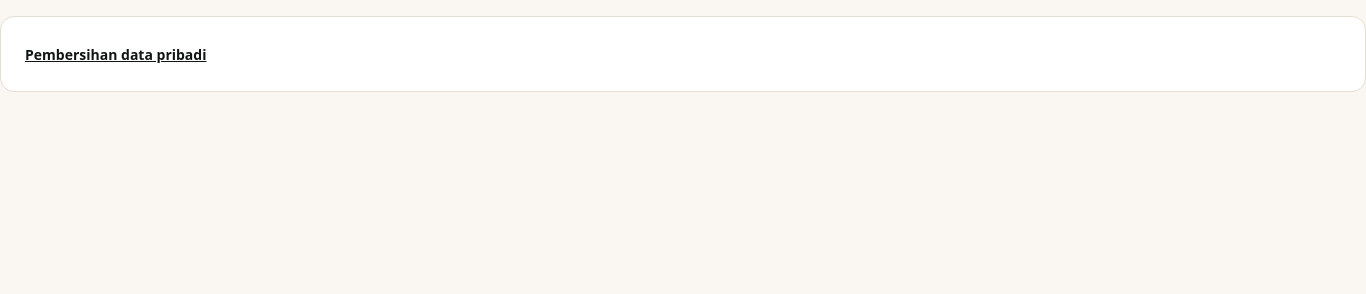
Test case: operator privacy cleanup › localizes safe metadata and dates without rendering extra PII or file keys
Click the button "Pembersihan data pribadi" at (116, 55), box [25,45,206,65]
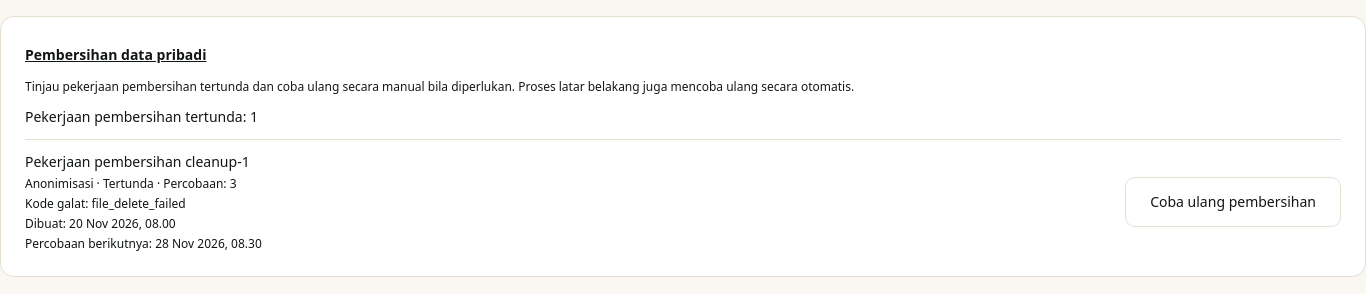
Now the text "Pekerjaan pembersihan cleanup-1" is shown, box [25,152,262,172]
Now the text "Anonimisasi · Tertunda · Percobaan: 3" is shown, box [25,176,262,192]
